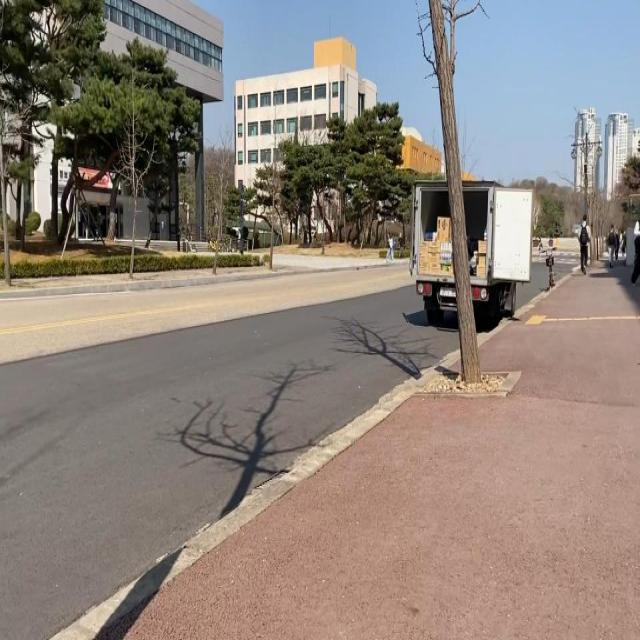sidewalk: (128, 264, 640, 639)
